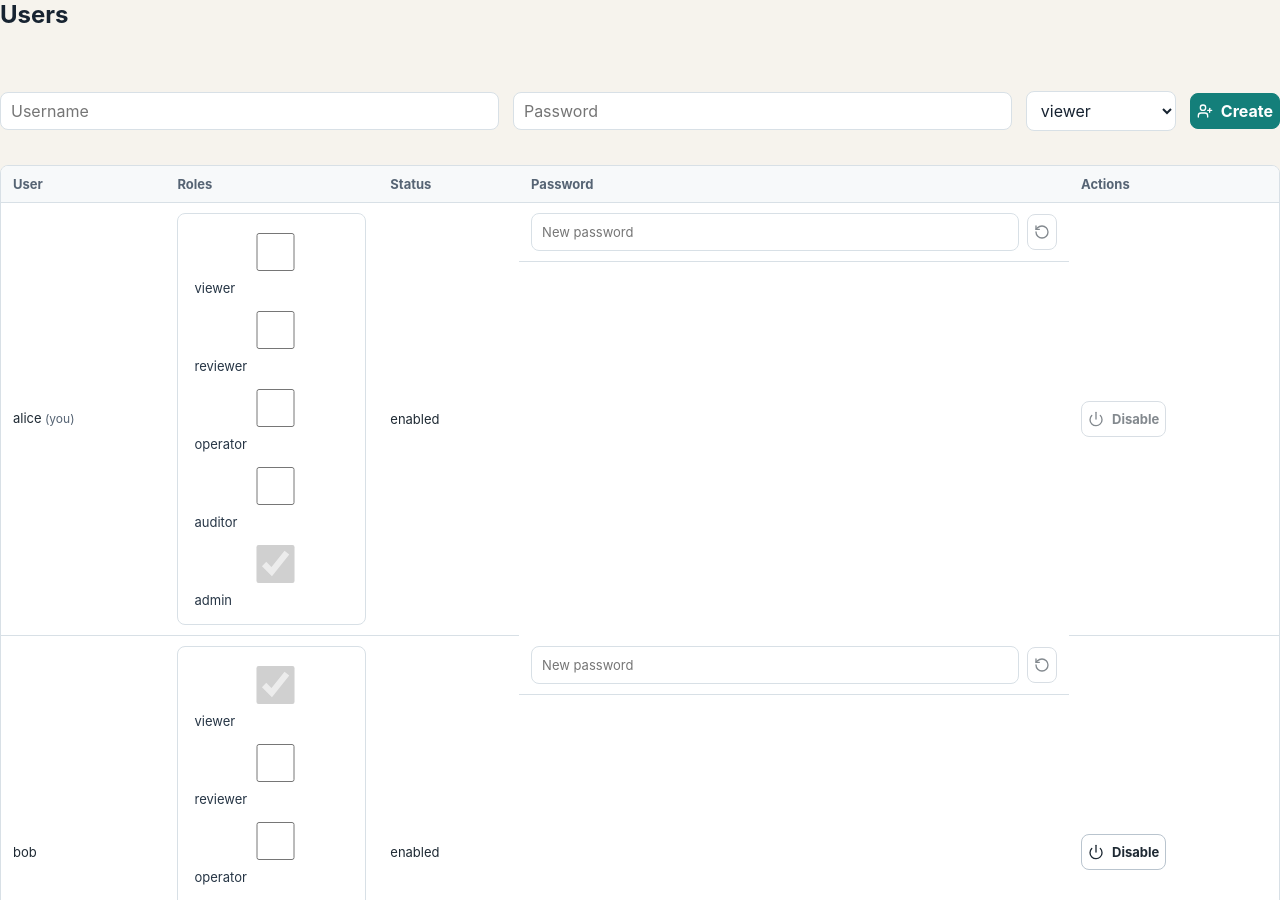
Scenario: <Users> admin safety (#422, #417) › confirms disabling another user and revoking a token
Check: the text "(you)" is shown, box [42,411,74,426]
Click the button with aria-label "Disable bob".
click(1124, 852)  # box [1081,834,1166,870]
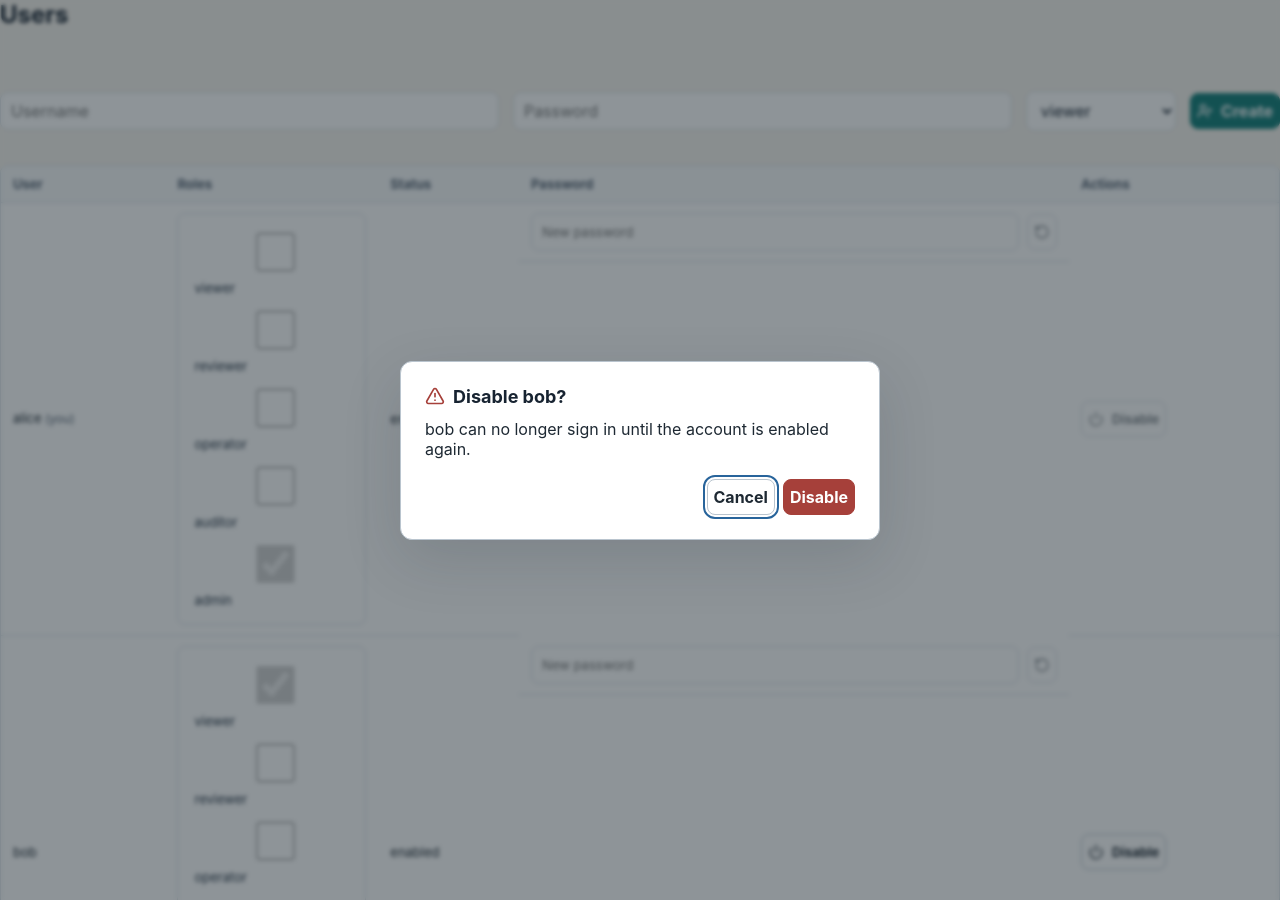
Click the button "Disable".
click(819, 496)  # box [783,478,855,514]
(page scrolled)
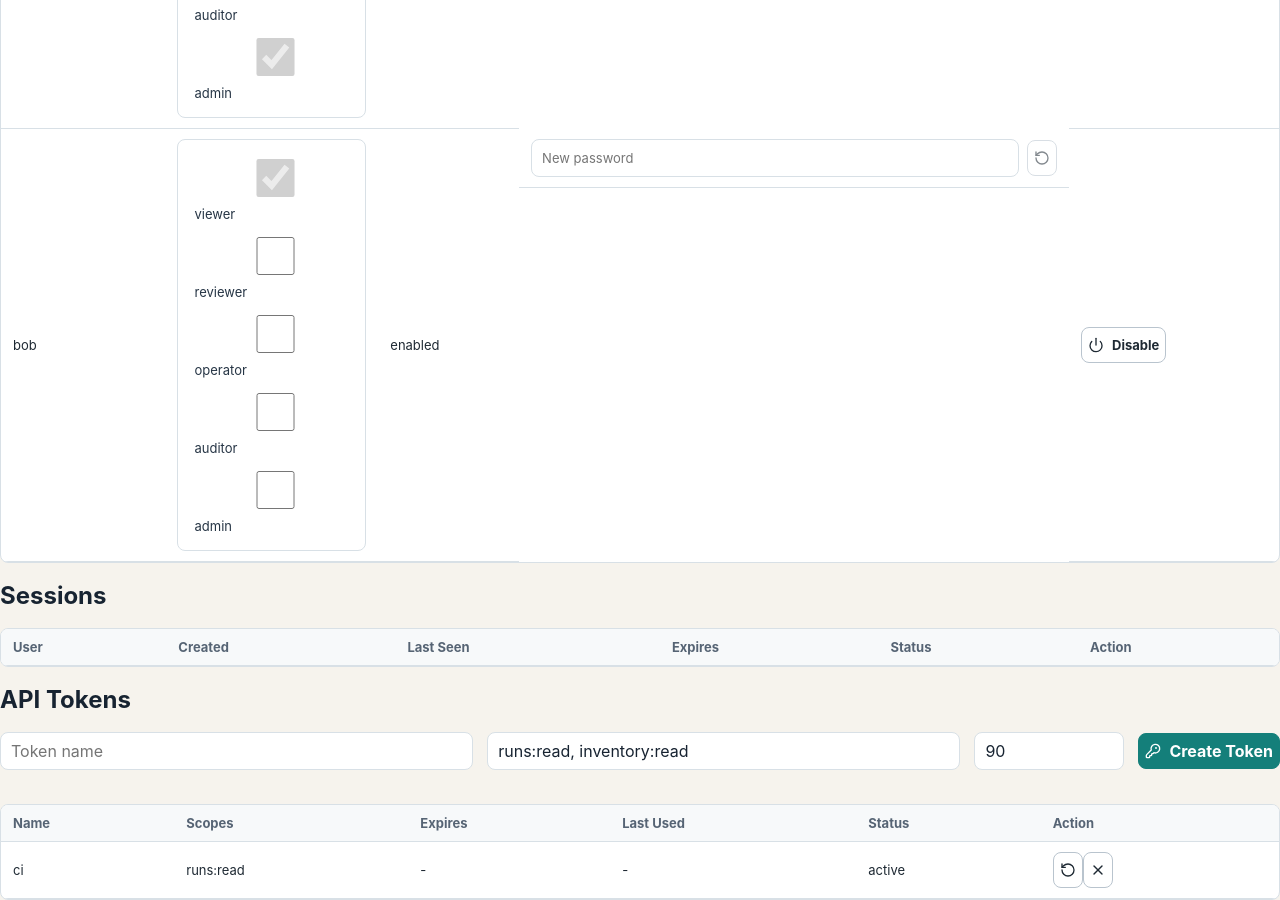
Click the button named "Revoke token ci".
click(1098, 870)  # box [1083,852,1113,888]
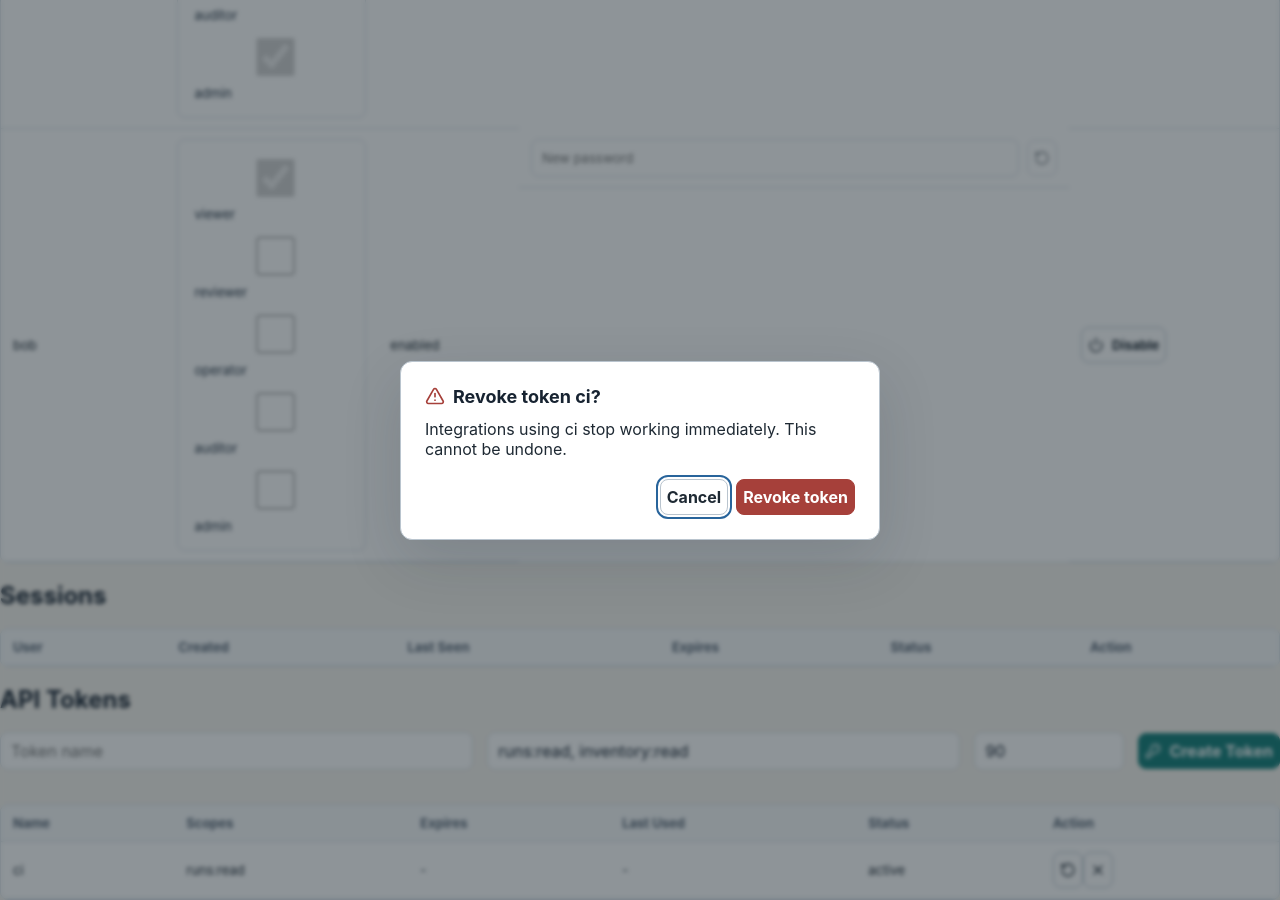
Click the button "Cancel".
click(694, 496)  # box [660,478,728,514]
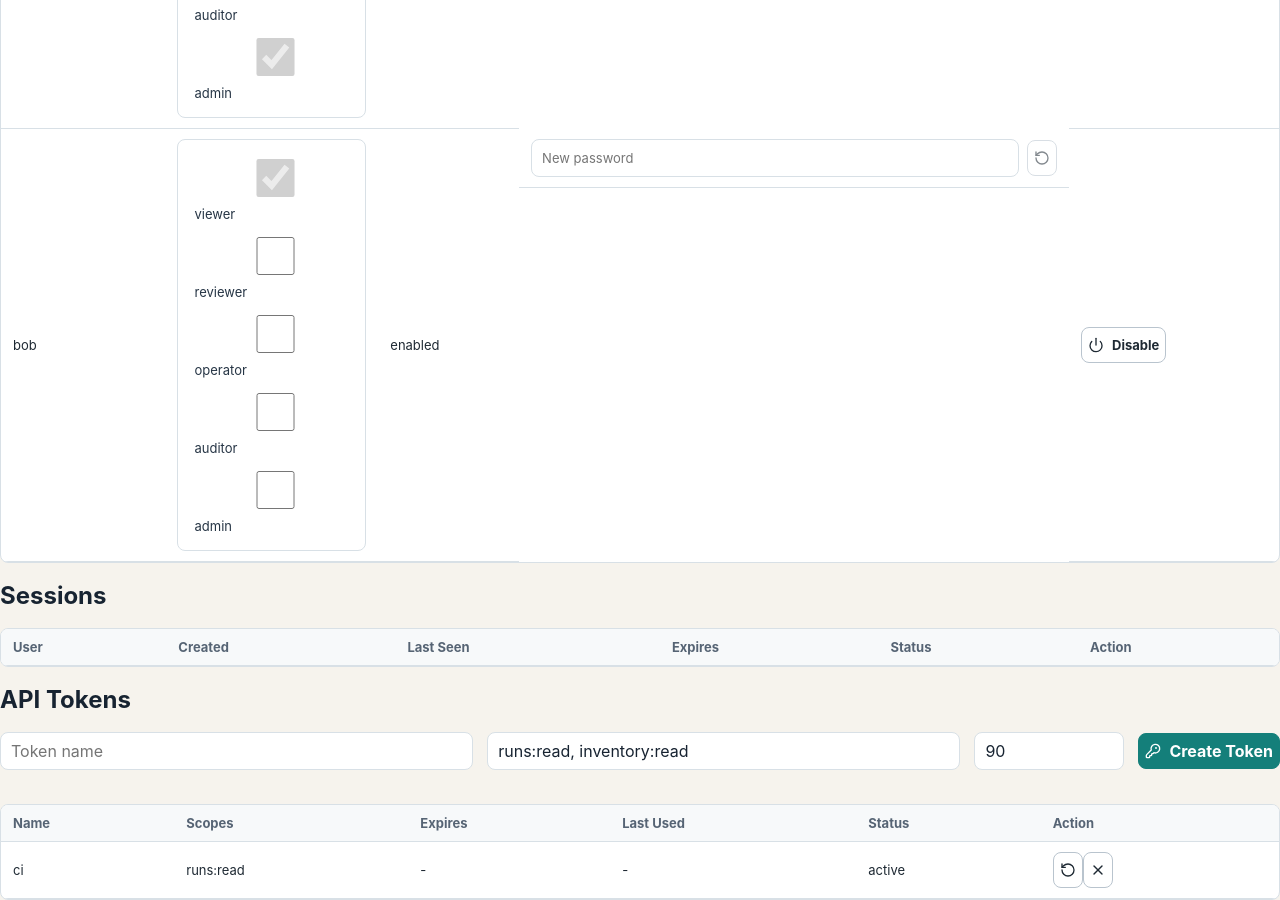
Check: the dialog is gone
